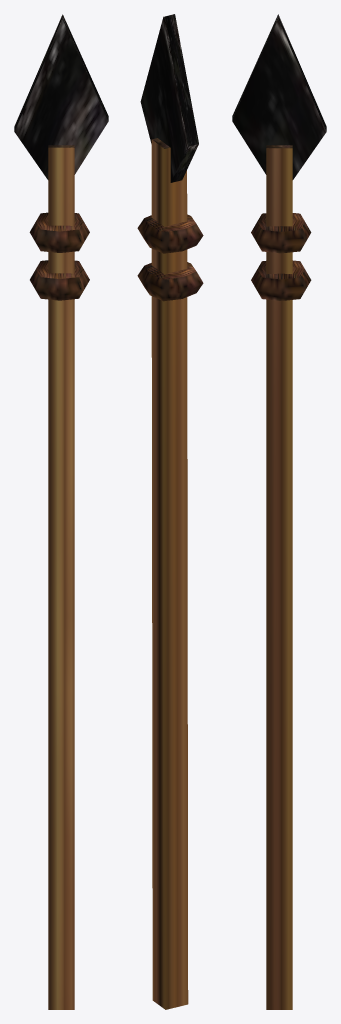
Rendered from maya_lanca_curta.dae.
3 views of the same model, side by side, from view 1: azimuth 90°, elevation 25°; view 2: azimuth 210°, elevation 25°; view 3: azimuth 270°, elevation 25° (orthographic).
Visible parts, largest first — view 1: maya_lanca_curta; view 2: maya_lanca_curta; view 3: maya_lanca_curta.
Boxes of the visible parts, <box> form: maya_lanca_curta: <box>14,14,108,1009</box>; maya_lanca_curta: <box>137,14,203,1009</box>; maya_lanca_curta: <box>232,14,326,1009</box>.
Bounding box in the file's own units: 0.2379 × 0.3713 × 4.3.
Materials: 1 (1 with a texture image).
